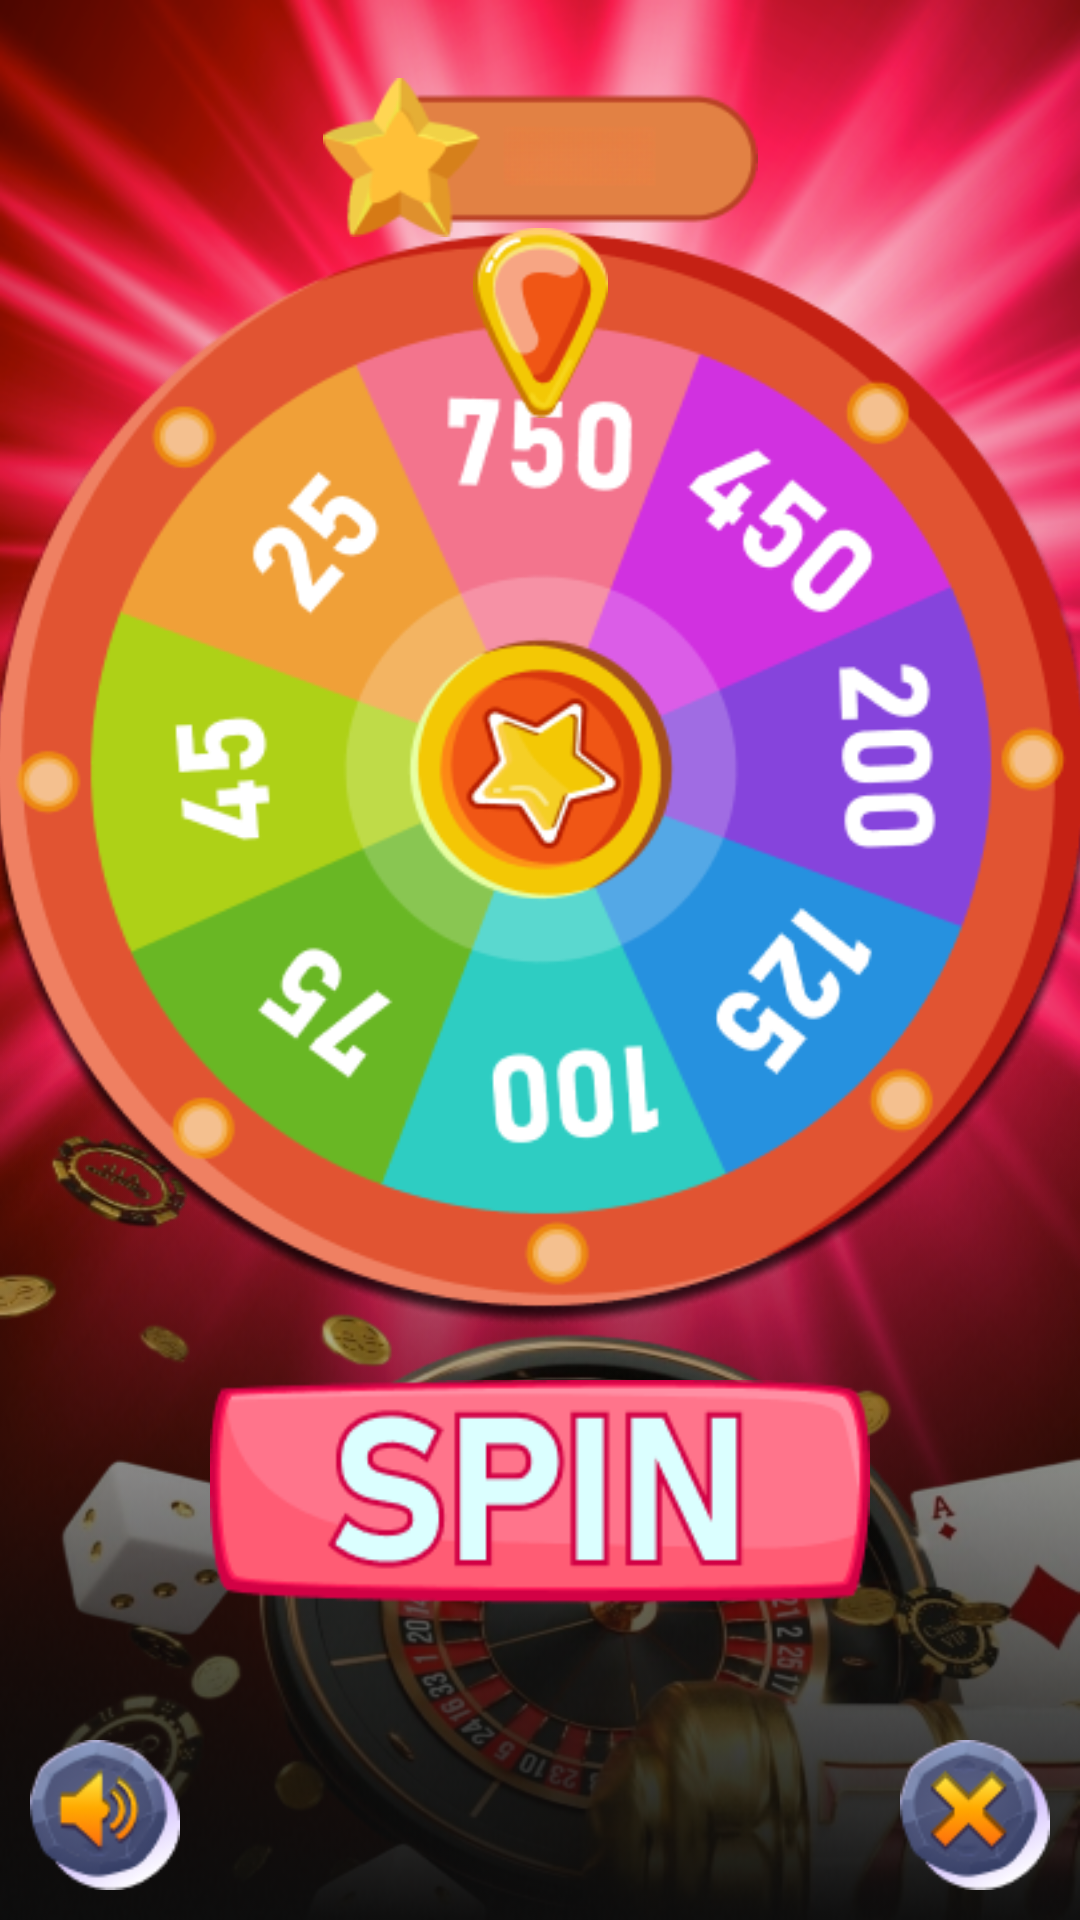

Point at icon controls on the screen. Image size 1080px×1920px, points as (x,y).
delete: (975,1815)
sound: (105,1815)
